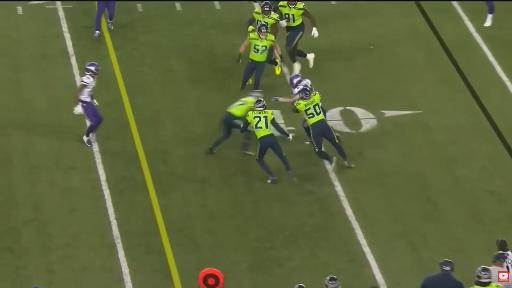Helmet: (476, 266, 491, 282), (297, 85, 313, 100), (85, 63, 99, 77), (289, 73, 302, 88), (261, 1, 272, 17), (324, 276, 339, 287), (258, 24, 268, 38), (255, 99, 266, 110), (250, 90, 263, 97), (287, 2, 297, 7)
Jersey: (295, 92, 325, 125), (248, 33, 275, 61), (247, 110, 273, 138), (279, 2, 306, 26), (253, 9, 279, 31), (227, 97, 255, 117), (79, 75, 95, 102), (292, 79, 314, 94), (471, 284, 502, 287)
Player: (294, 86, 354, 167), (241, 99, 296, 183), (207, 91, 261, 154), (237, 24, 282, 90), (279, 2, 318, 73), (74, 63, 103, 146), (272, 74, 314, 102), (247, 2, 279, 38), (94, 2, 115, 39), (484, 2, 494, 26), (324, 276, 340, 287)
